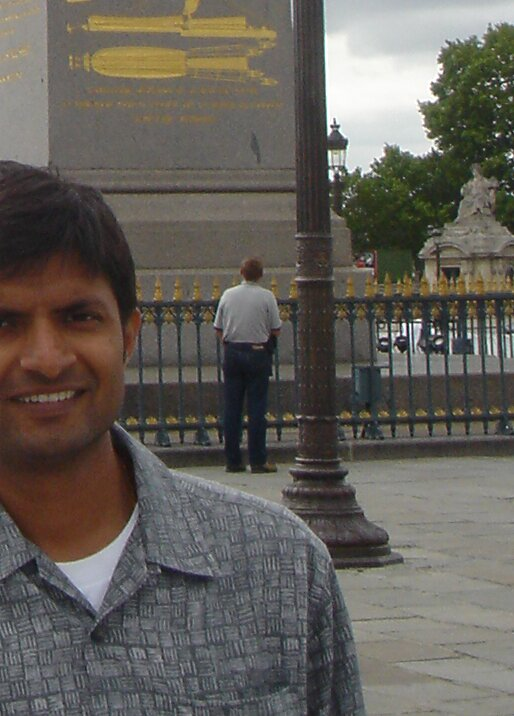person: (1, 153, 372, 716), (215, 257, 277, 472)
